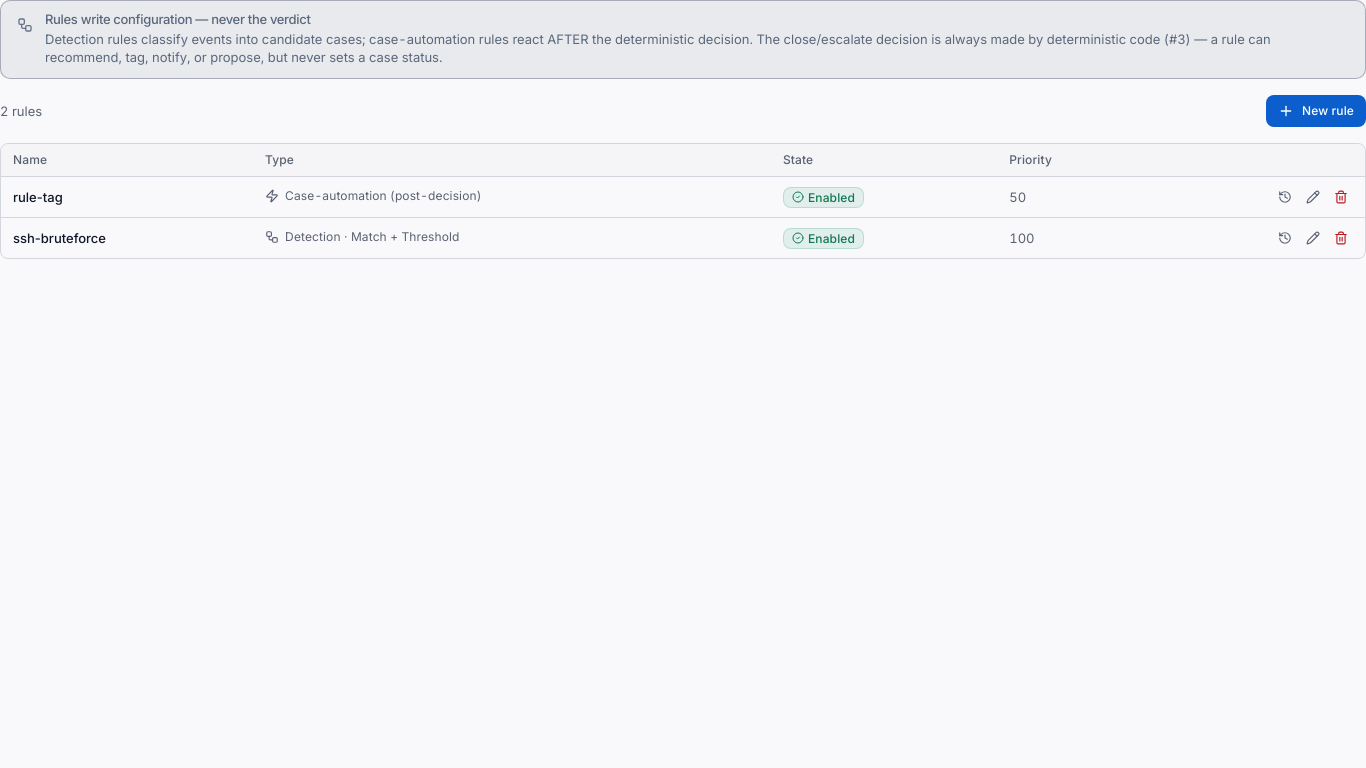
Test case: DetectionRulesHome › opens the editor sheet when a rule name is clicked
The image size is (1366, 768).
Click the button "ssh-bruteforce".
click(127, 238)  # box [13,229,241,247]
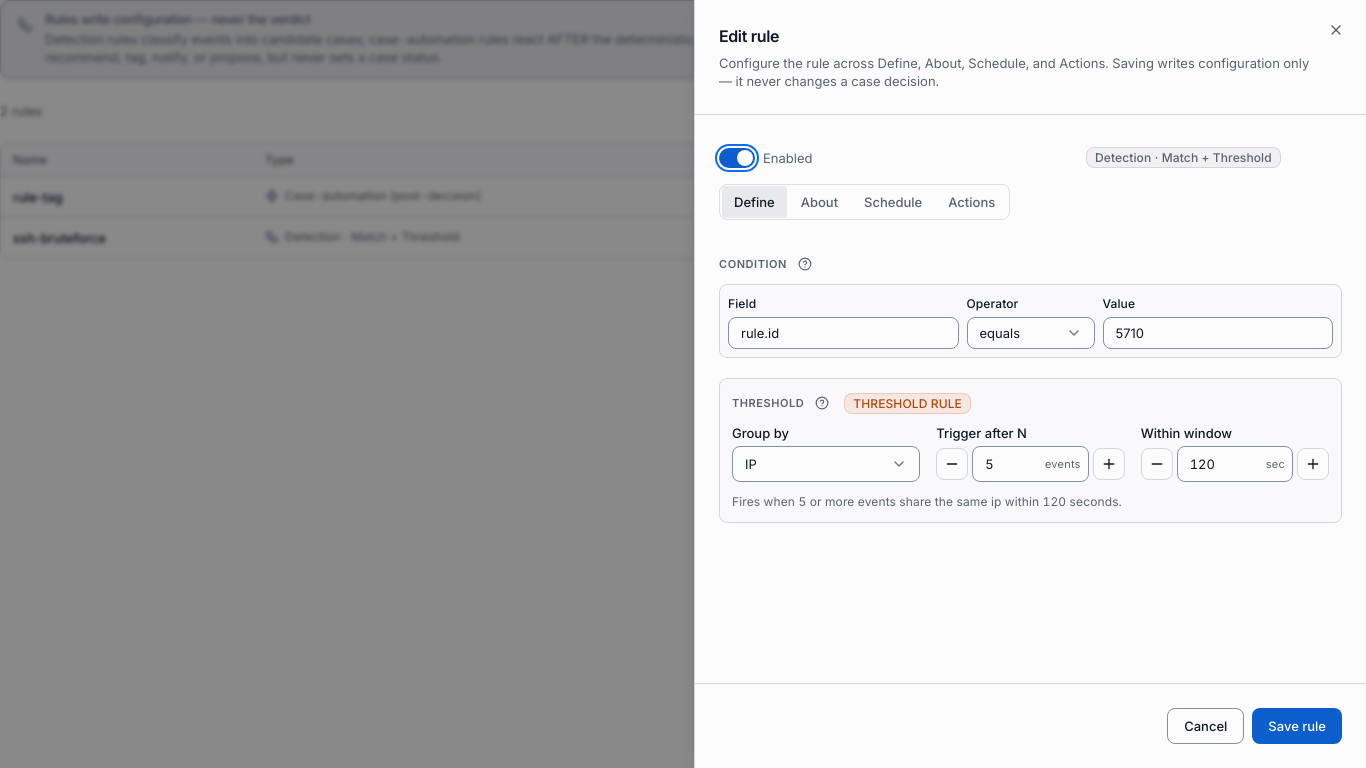
expect the tab "Define" is shown: met, box [722,186,787,218]
